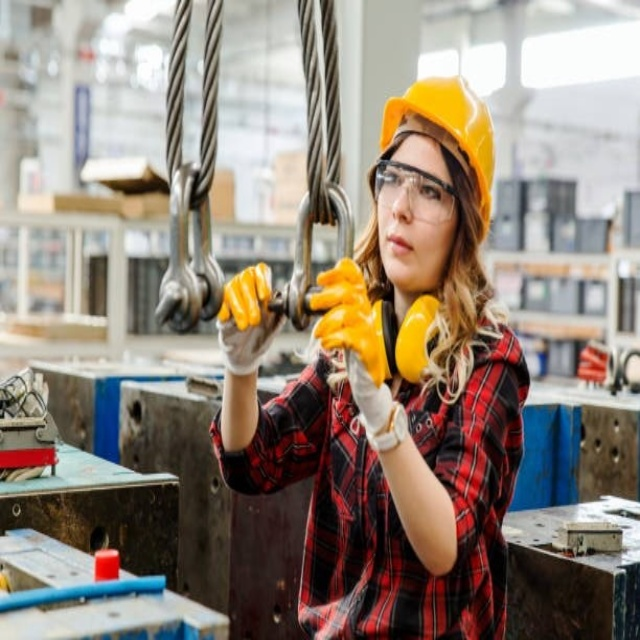Gafas: (374, 162, 460, 224)
Guantes: (307, 257, 387, 380), (218, 262, 276, 380)
Sin_mascara: (379, 223, 426, 273)
